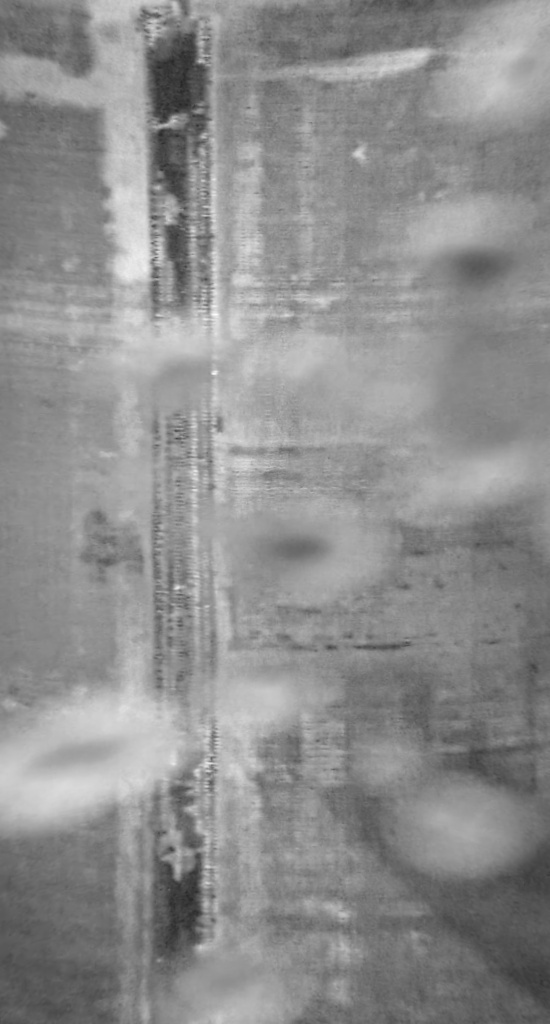splice: (131, 1, 228, 1023)
